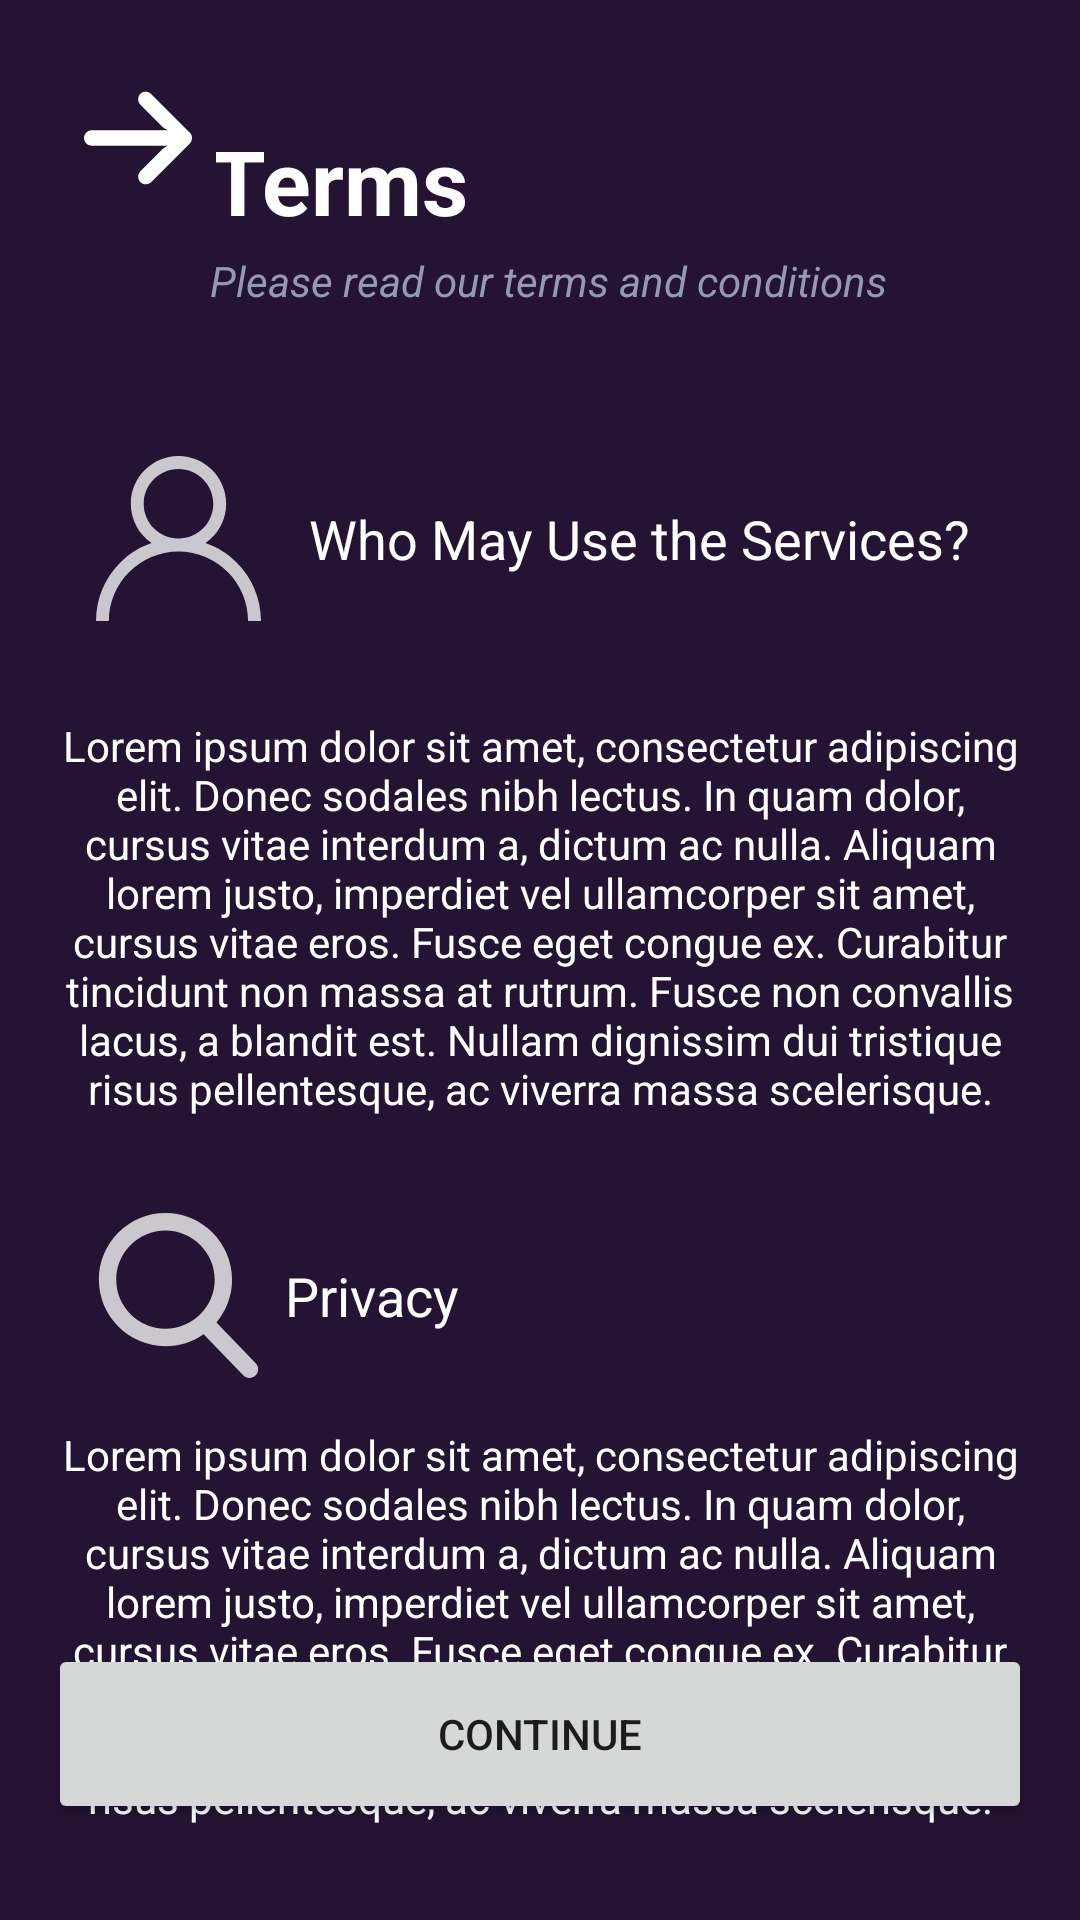

Named icons in this screenshot (1080×1920) and their bounding boxes, box(x1, y1, x2, y2):
search: box(99, 1213, 258, 1378)
user: box(96, 456, 261, 621)
